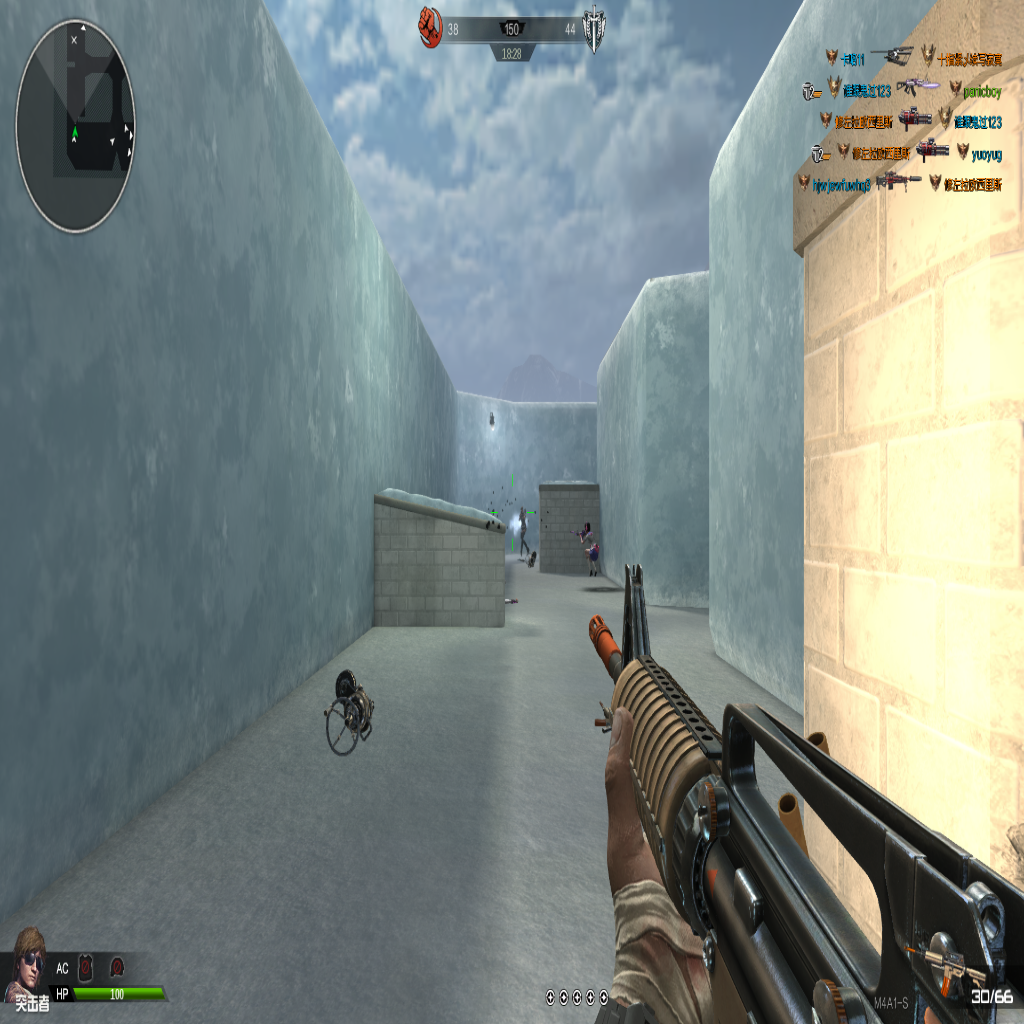ct: (518, 505, 530, 559)
